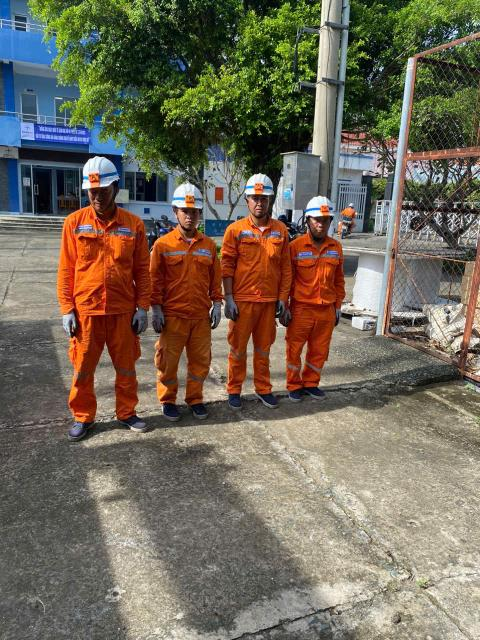gloves: (212, 294, 245, 322), (124, 302, 151, 336), (197, 299, 226, 330), (143, 297, 167, 334), (59, 312, 78, 342), (277, 293, 293, 324), (322, 307, 347, 326), (271, 297, 286, 319)
helmet: (68, 152, 119, 197), (299, 188, 346, 222), (164, 182, 213, 209), (239, 165, 276, 200)
shoes: (112, 403, 148, 437), (69, 409, 97, 442), (252, 384, 280, 412), (223, 384, 246, 415), (183, 393, 210, 418), (277, 375, 301, 401), (157, 396, 181, 421), (303, 380, 327, 405)
